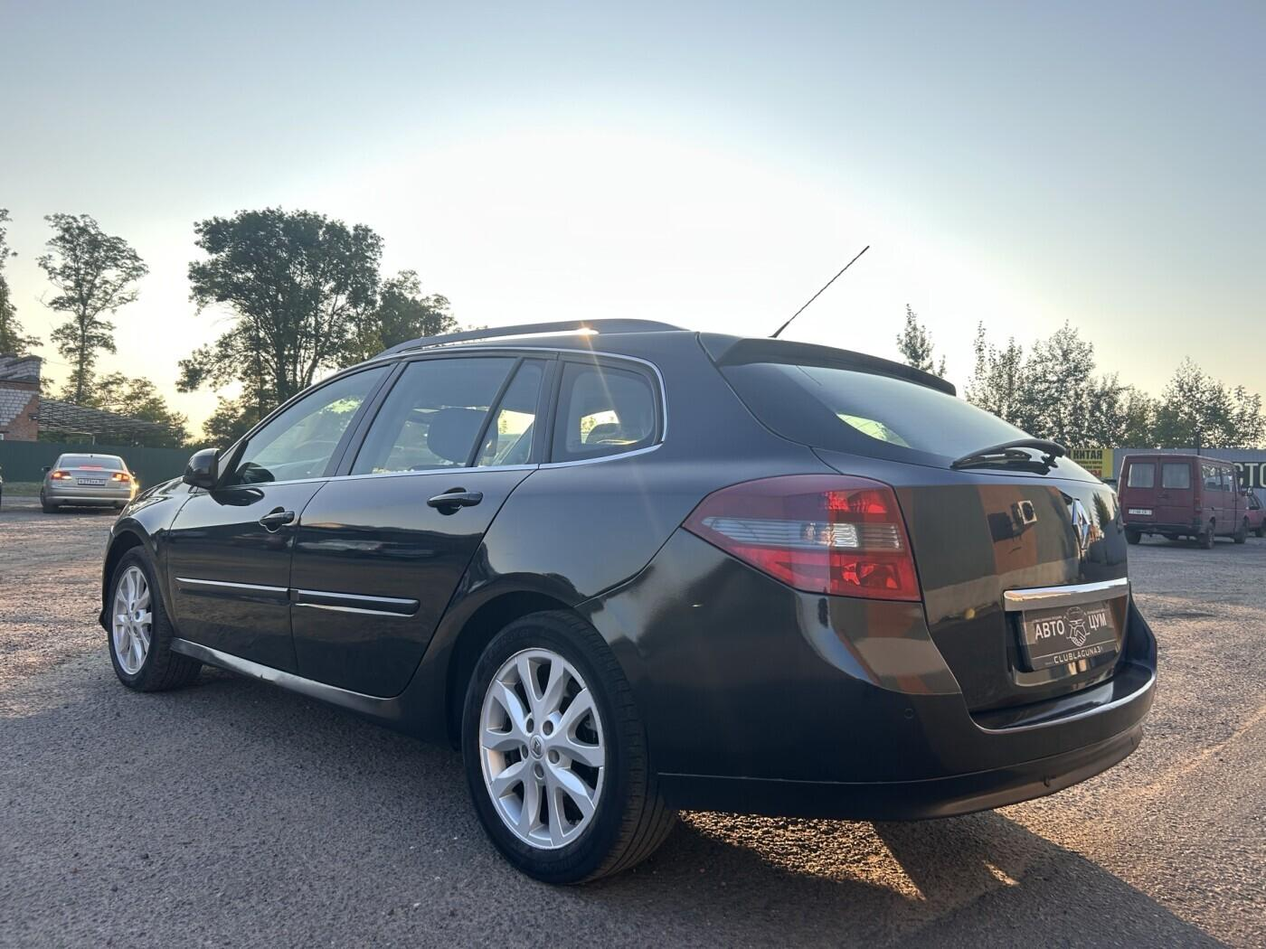Laguna_2007-2011: (97, 320, 1156, 882)
